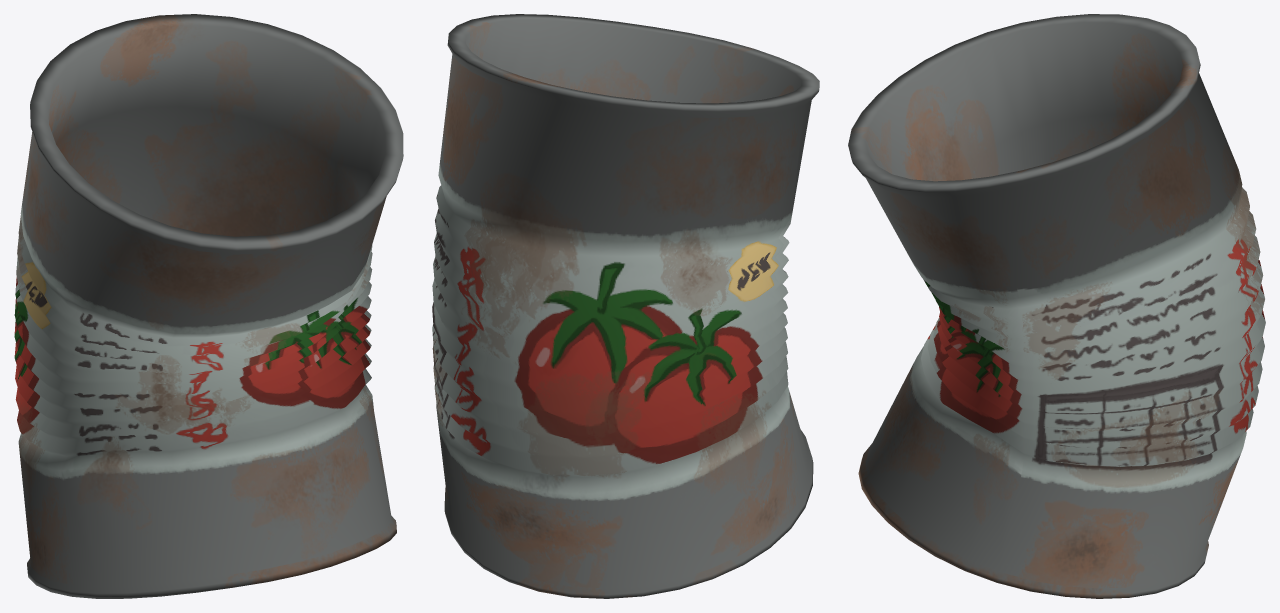
File: can shell.fbx
3 views of the same model, side by side, from view 1: azimuth 30°, elevation 25°; view 2: azimuth 150°, elevation 25°; view 3: azimuth 270°, elevation 25° (orthographic). The views are drawn at different scales.
Visible parts, largest first — view 1: Rusty CAn; view 2: Rusty CAn; view 3: Rusty CAn.
Part boxes in pixels (box(x1,y1,x2,y2)): Rusty CAn: box(14, 14, 403, 598); Rusty CAn: box(432, 14, 819, 598); Rusty CAn: box(848, 14, 1265, 598).
Bounding box in the file's own units: 207 × 304 × 236.
